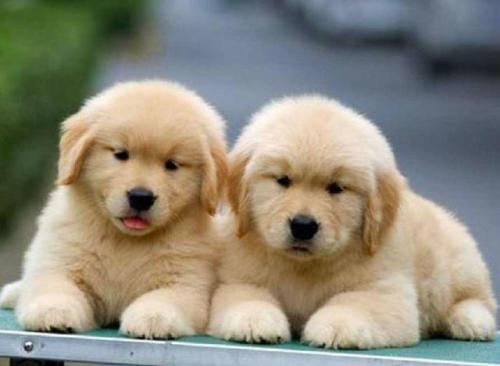dog: (229, 93, 405, 262), (56, 78, 222, 238)
